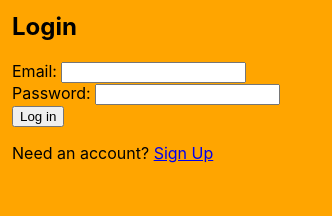
Login › handles form submission with invalid credentials
Type "invalid@example.com" into the field labelled "Email:" at (154, 72), box [62,62,246,83]
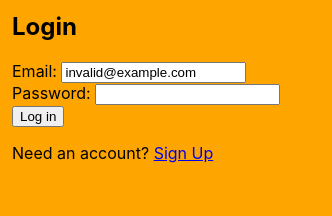
Type "invalidpassword" into the password field labelled "Password:" at (188, 94), box [95,84,280,105]
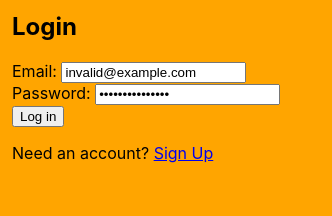
Click the button "Log in" at (38, 116), box [12,106,64,127]
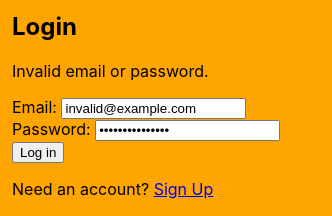
Expected: the text "Invalid email or password." is shown, [12,61,208,81]
